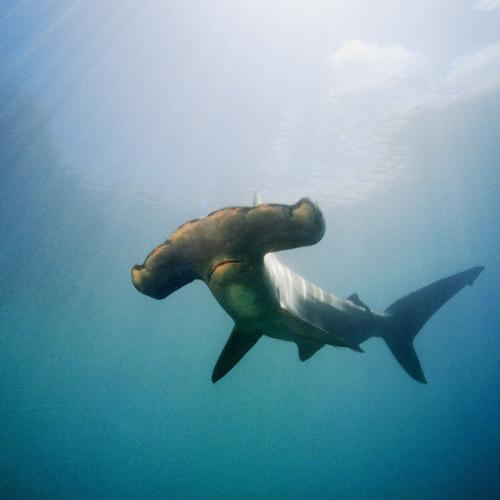shark-endangered: (133, 198, 485, 388)
